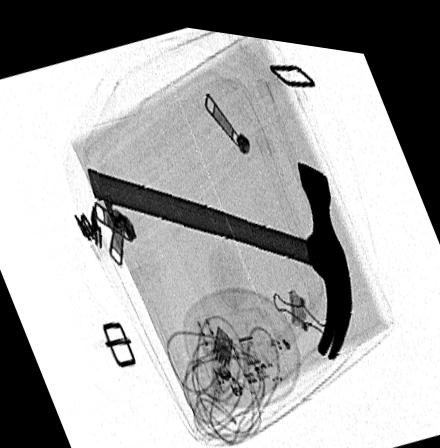Hammer: (86, 150, 352, 349)
